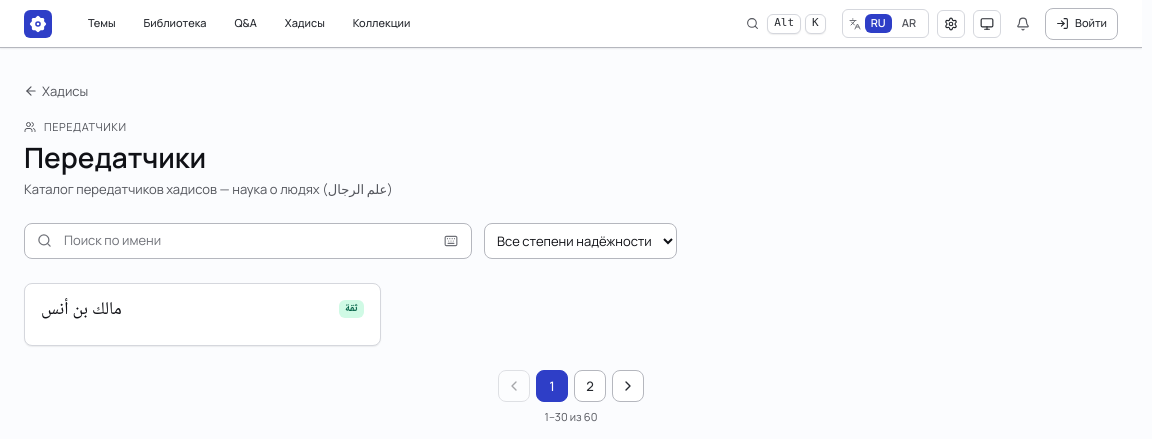
it: NarratorListPage › пагинация: клик «следующая» грузит вторую страницу и ЗАМЕНЯЕТ список
The width and height of the screenshot is (1152, 439).
Expected: the text "مالك بن أنس" is shown, [41, 300, 122, 321]
Click the button named "Следующая страница": (628, 386) [612, 370, 644, 402]
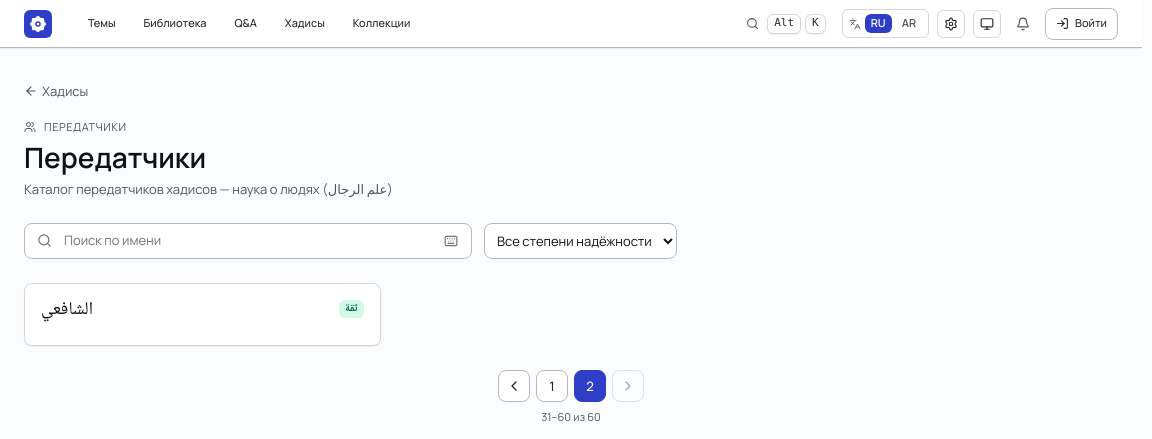
Now the text "الشافعي" is shown, box [41, 300, 93, 321]
Now the link "مالك بن أنس" is gone
